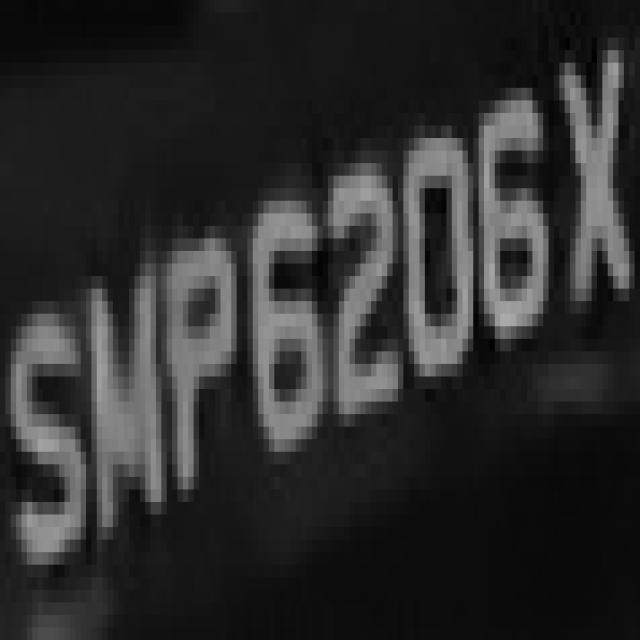0: (382, 126, 473, 402)
2: (307, 150, 398, 452)
6: (242, 163, 328, 464), (462, 75, 554, 339)
M: (75, 239, 172, 552)
P: (156, 213, 242, 514)
S: (5, 264, 86, 602)
X: (554, 13, 640, 326)
